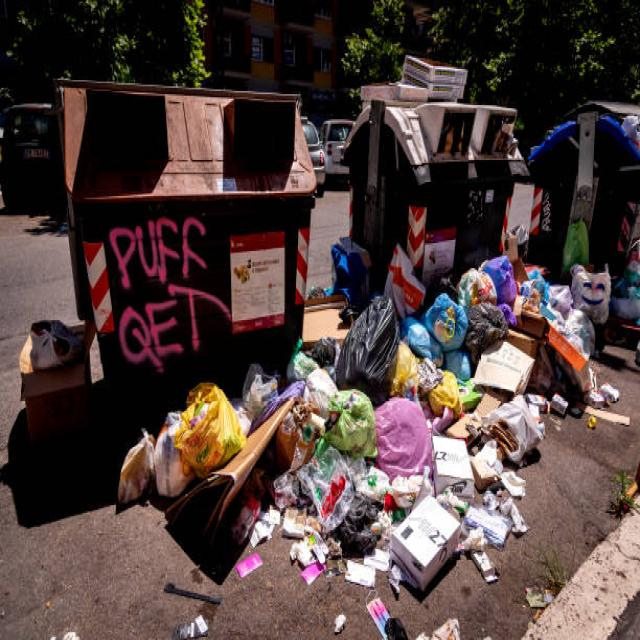trash: (108, 256, 612, 552)
